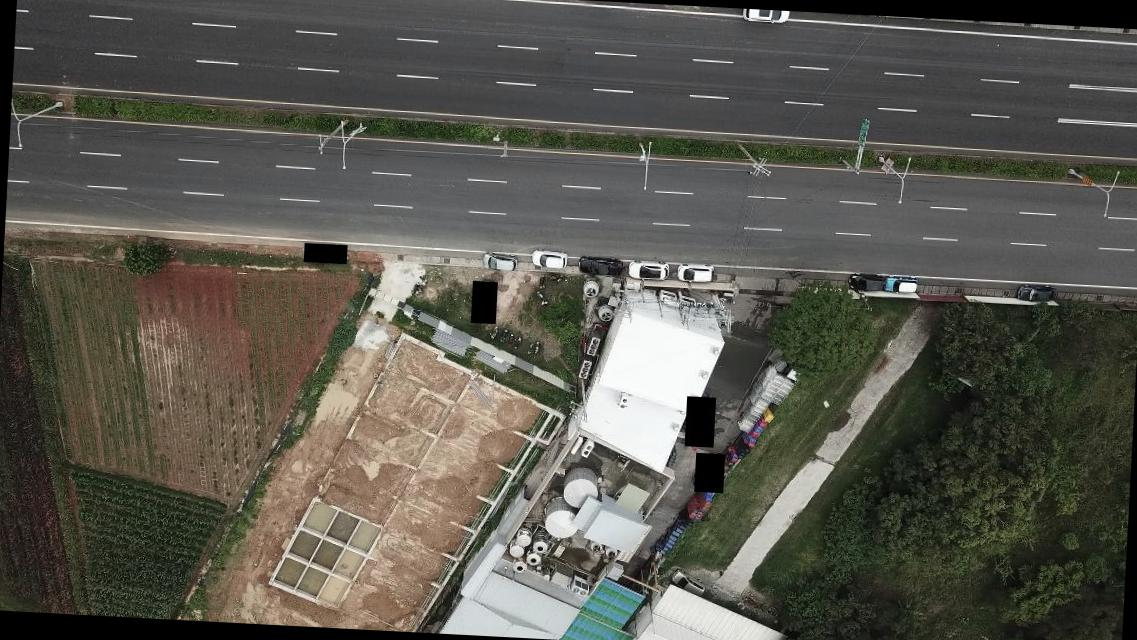vehicle: (574, 256, 622, 280), (1014, 282, 1056, 306), (674, 260, 714, 284), (625, 259, 667, 281), (478, 252, 518, 274), (740, 9, 787, 27), (530, 249, 568, 271), (847, 274, 887, 294), (883, 274, 918, 296)
